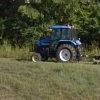Tractor: (25, 14, 84, 71)
